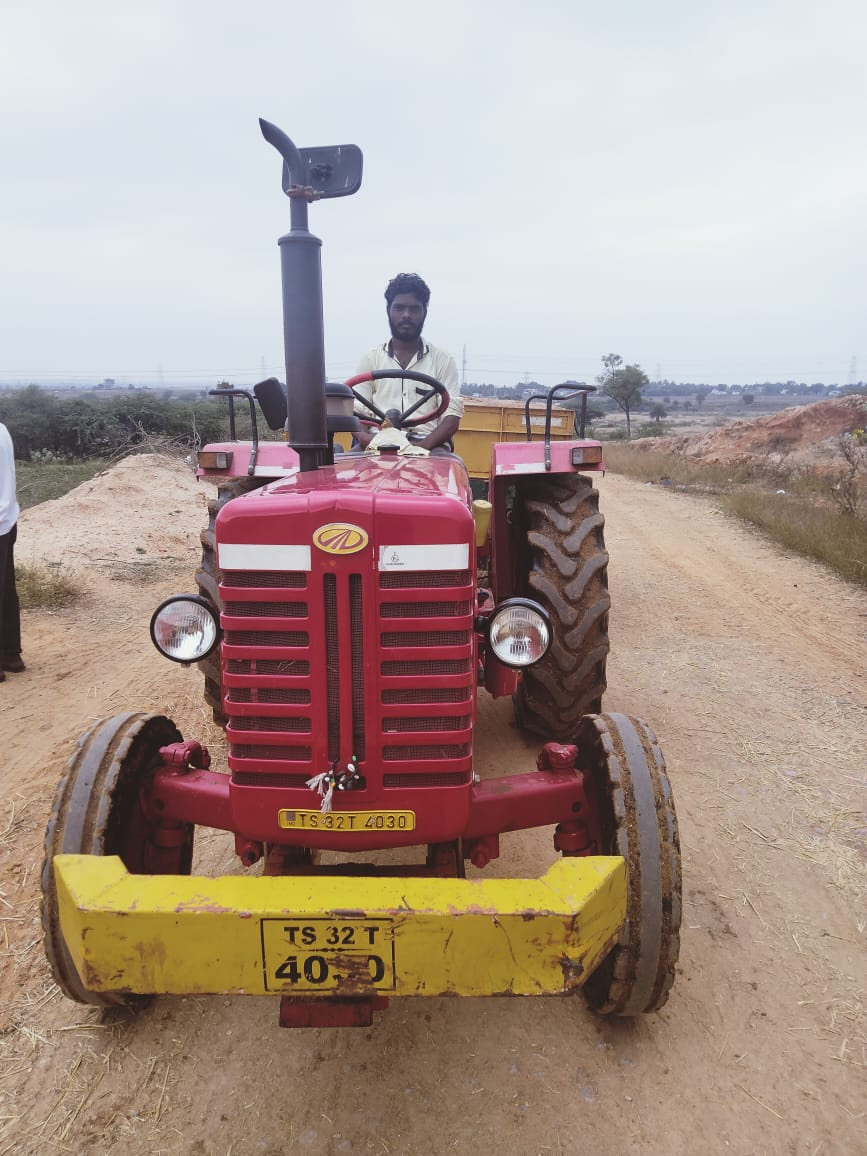num_plate: (257, 914, 402, 992)
